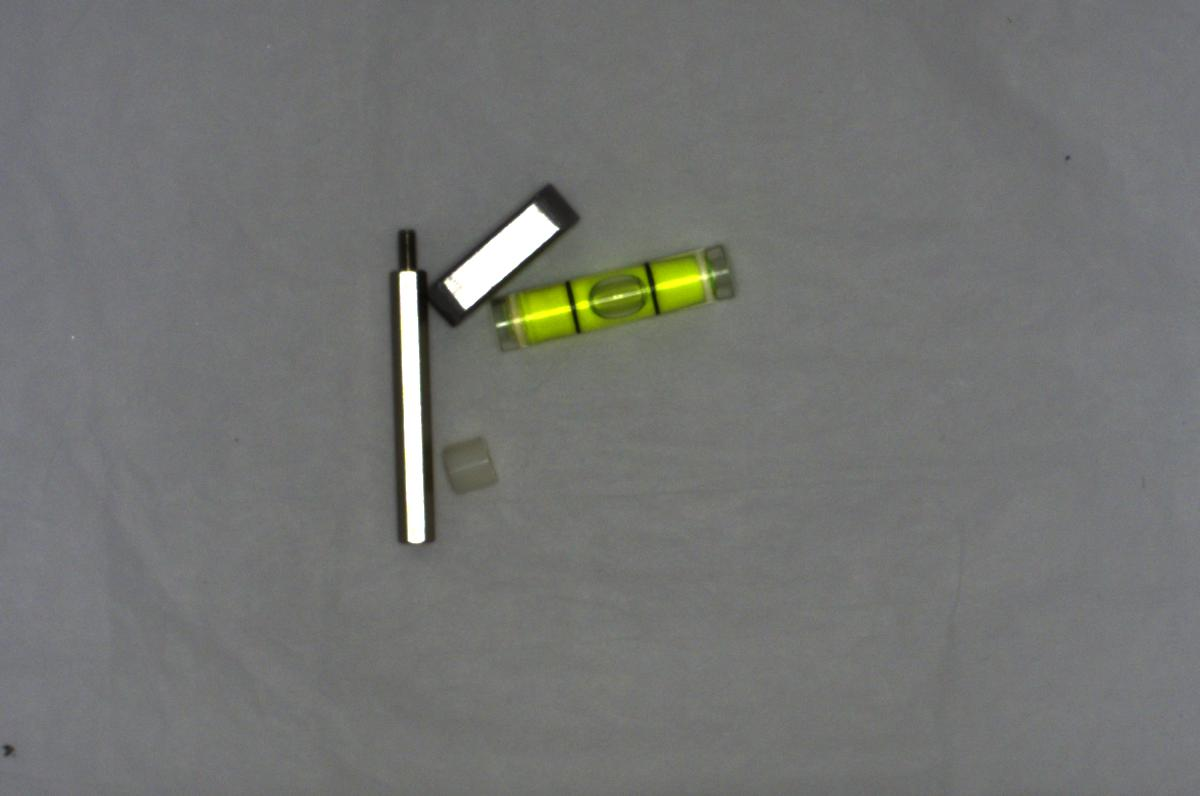Hexagonal steel column: (385, 220, 438, 553)
Horizontal bubble: (494, 239, 748, 352)
Keybar: (426, 178, 577, 327)
Plastic cushion pillar: (438, 430, 501, 500)
